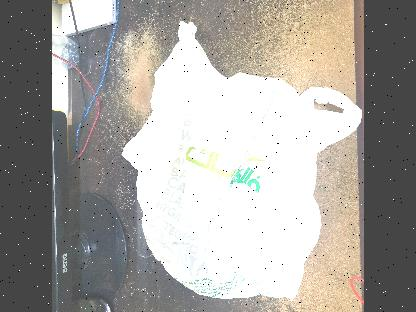Others: (116, 16, 364, 306)
